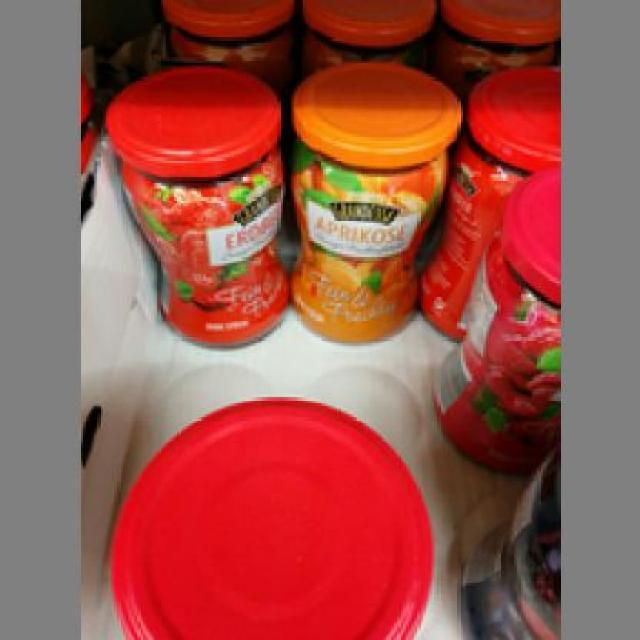Jam: (102, 62, 288, 348), (283, 54, 463, 340), (428, 162, 558, 468)
